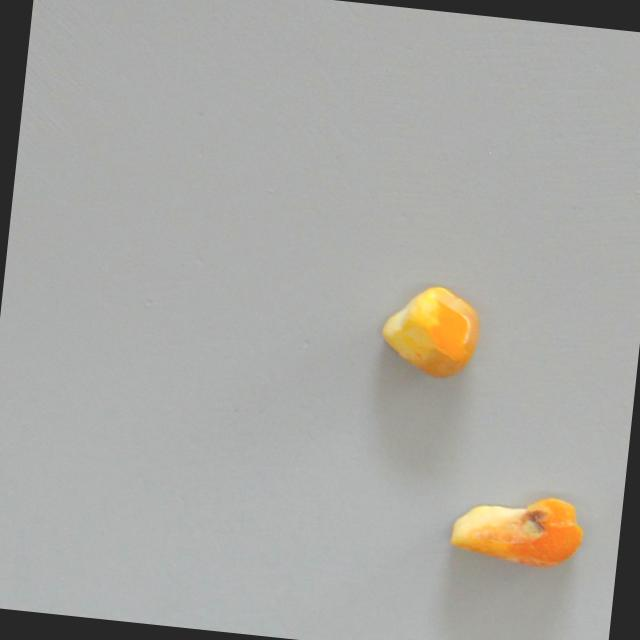dañado: (430, 462, 595, 590), (371, 265, 490, 389)
